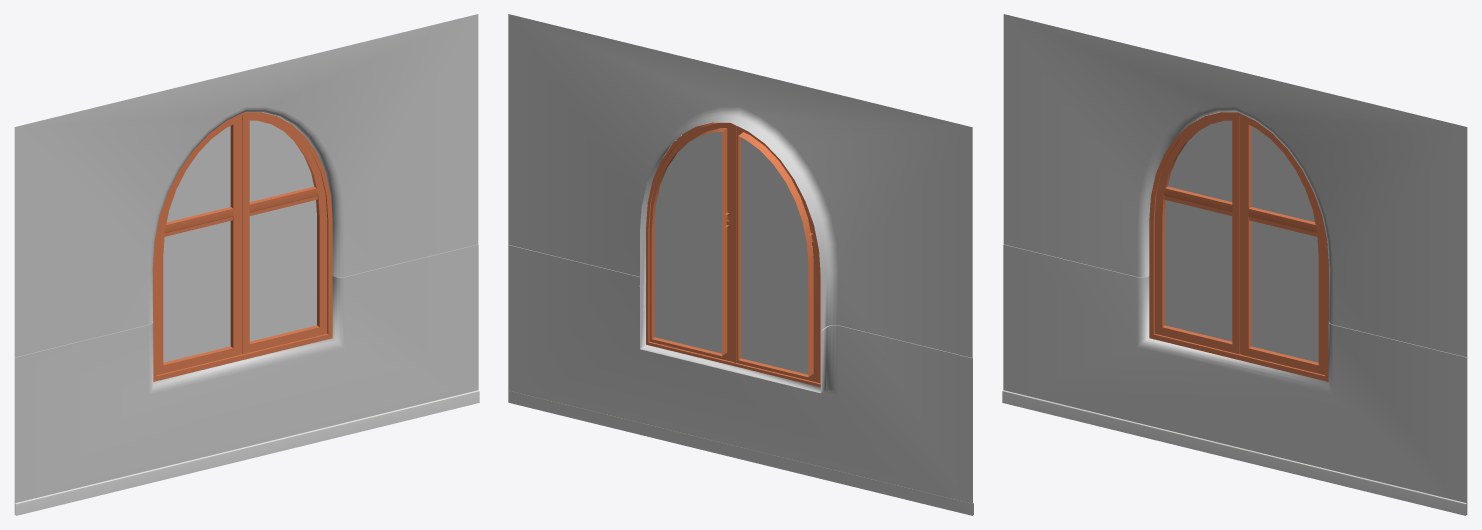
Rendered from sm_big_window_wall.fbx.
3 renders of one model, left to right at view 1: azimuth 30°, elevation 25°; view 2: azimuth 150°, elevation 25°; view 3: azimuth 330°, elevation 25°, orthographic.
Parts seen in each view (by area): view 1: sm_wall, sm_tiled, sm_glass, sm_windowframe, sm_skirting, sm_windowframe.001, sm_windowframe.002; view 2: sm_wall, sm_glass, sm_windowframe, sm_windowframe.001, sm_tiled; view 3: sm_wall, sm_tiled, sm_glass, sm_windowframe, sm_skirting, sm_windowframe.001, sm_windowframe.002.
Part boxes in pixels (left/top/right/bottom): sm_wall: left=14, top=14, right=478, bottom=514; sm_tiled: left=15, top=244, right=478, bottom=515; sm_glass: left=163, top=120, right=316, bottom=362; sm_windowframe: left=156, top=115, right=327, bottom=374; sm_skirting: left=15, top=390, right=479, bottom=515; sm_windowframe.001: left=153, top=112, right=332, bottom=381; sm_windowframe.002: left=164, top=186, right=317, bottom=236; sm_wall: left=508, top=14, right=972, bottom=515; sm_glass: left=654, top=132, right=808, bottom=374; sm_windowframe: left=649, top=123, right=820, bottom=382; sm_windowframe.001: left=646, top=122, right=820, bottom=387; sm_tiled: left=509, top=245, right=972, bottom=515; sm_wall: left=1003, top=14, right=1467, bottom=514; sm_tiled: left=1003, top=244, right=1466, bottom=515; sm_glass: left=1165, top=120, right=1318, bottom=362; sm_windowframe: left=1154, top=115, right=1325, bottom=374; sm_skirting: left=1002, top=390, right=1466, bottom=515; sm_windowframe.001: left=1149, top=112, right=1328, bottom=381; sm_windowframe.002: left=1164, top=186, right=1317, bottom=236.
Size of the model in its own units: 400 by 320 by 17.4.
